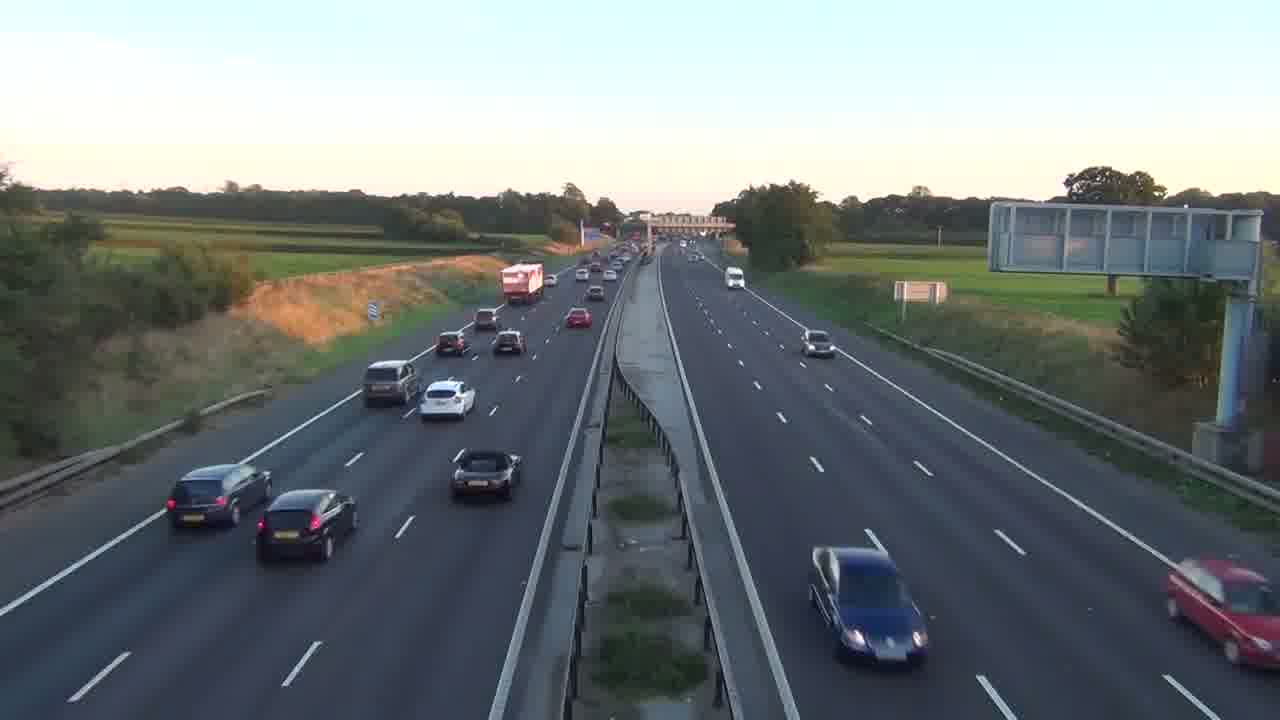car: (254, 488, 357, 563), (165, 462, 273, 529), (448, 448, 524, 501), (419, 378, 478, 421), (491, 330, 525, 356), (564, 306, 592, 329)
truck: (808, 541, 932, 667), (1164, 554, 1279, 670), (362, 358, 419, 407), (497, 262, 546, 305)
